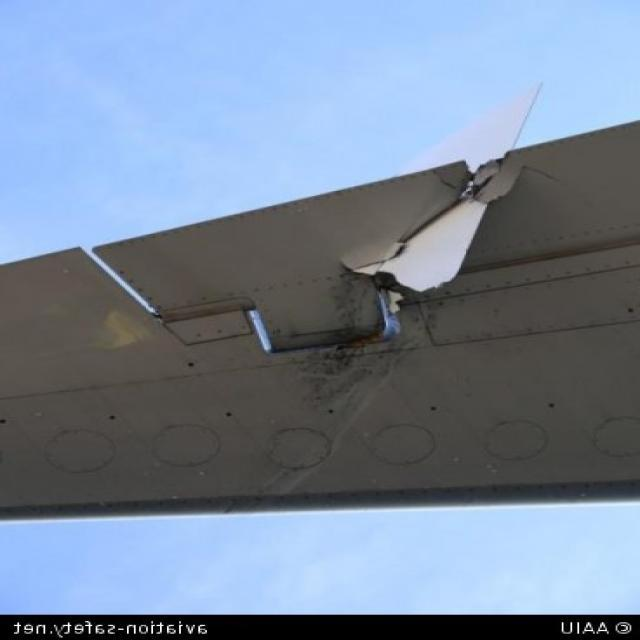crack: (346, 153, 521, 300)
